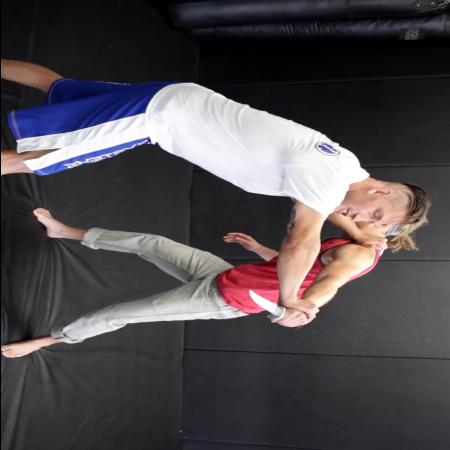long weapon: (241, 288, 306, 330)
